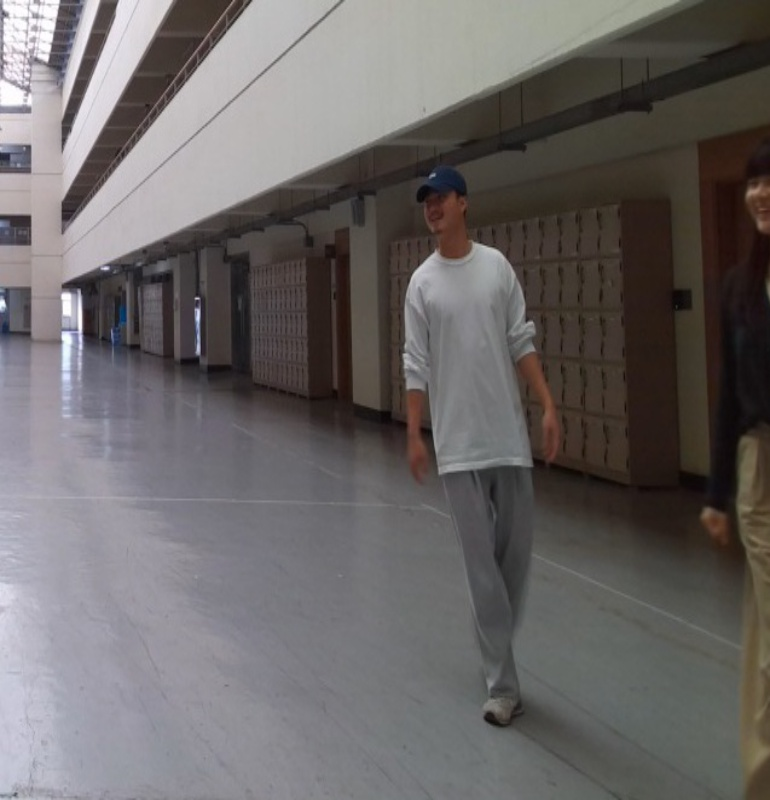person: (396, 162, 574, 729)
